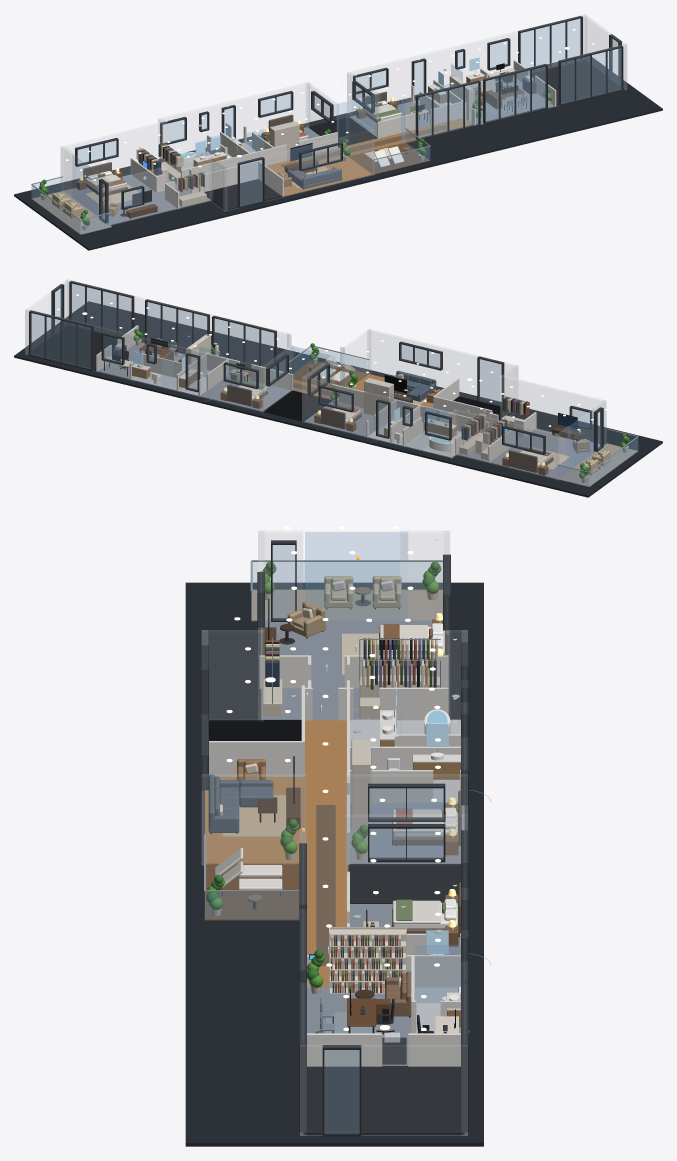
3 renders of one model, top to bottom at view 1: azimuth 30°, elevation 25°; view 2: azimuth 150°, elevation 25°; view 3: azimuth 270°, elevation 25°, orthographic. The views are drawn at different scales.
Parts seen in each view (by area): view 1: wall_ext (×12), First_Floor, site_pad, wall_int (×5), window_void_pool, window_hall_bed4, window_office_pool, window_void_top, wall_glass (×2), wall_rail (×3), wall_low (×2), floor_master_bed_1 (+20 smaller); view 2: wall_ext (×12), First_Floor, site_pad, wall_int (×9), window_void_top, window_void_pool, window_hall_bed4, window_office_pool, wall_glass (×2), floor_master_bed_1, wall_rail (×3), window_stair (+18 smaller); view 3: First_Floor, site_pad, wall_ext (×8), wall_int (×8), wall_glass, floor_hall, wall_rail (×2), floor_balcony, window_void_side, floor_master_bed_1, floor_patio, floor_lounge (+10 smaller).
Part boxes in pixels (bbox=[...]): wall_ext (×12): bbox=[61, 15, 626, 224]; First_Floor: bbox=[31, 57, 624, 230]; site_pad: bbox=[14, 55, 662, 250]; wall_int (×5): bbox=[130, 101, 462, 192]; window_void_pool: bbox=[558, 45, 623, 105]; window_hall_bed4: bbox=[415, 80, 480, 140]; window_office_pool: bbox=[483, 63, 547, 124]; window_void_top: bbox=[518, 16, 582, 73]; wall_glass (×2): bbox=[72, 94, 377, 214]; wall_rail (×3): bbox=[31, 147, 429, 233]; wall_low (×2): bbox=[201, 161, 283, 196]; floor_master_bed_1: bbox=[63, 174, 177, 224]; wall_ext (×12): bbox=[25, 280, 605, 479]; First_Floor: bbox=[27, 324, 638, 482]; site_pad: bbox=[14, 301, 662, 497]; wall_int (×9): bbox=[143, 353, 515, 462]; window_void_top: bbox=[29, 310, 93, 370]; window_void_pool: bbox=[69, 280, 134, 336]; window_hall_bed4: bbox=[212, 315, 276, 369]; window_office_pool: bbox=[145, 299, 209, 353]; wall_glass (×2): bbox=[292, 346, 593, 467]; floor_master_bed_1: bbox=[489, 428, 599, 479]; wall_rail (×3): bbox=[312, 348, 637, 486]; window_stair: bbox=[477, 356, 504, 407]; First_Floor: bbox=[204, 560, 491, 1134]; site_pad: bbox=[185, 582, 483, 1146]; wall_ext (×8): bbox=[202, 531, 467, 1135]; wall_int (×8): bbox=[259, 655, 460, 1066]; wall_glass: bbox=[305, 532, 407, 619]; floor_hall: bbox=[303, 719, 348, 987]; wall_rail (×2): bbox=[205, 562, 442, 919]; floor_balcony: bbox=[251, 589, 442, 621]; window_void_side: bbox=[322, 1045, 361, 1136]; floor_master_bed_1: bbox=[261, 620, 432, 687]; floor_patio: bbox=[205, 863, 299, 920]; floor_lounge: bbox=[205, 777, 303, 863].
Bounding box in the file's own units: 41.06 × 3.87 × 9.46.
